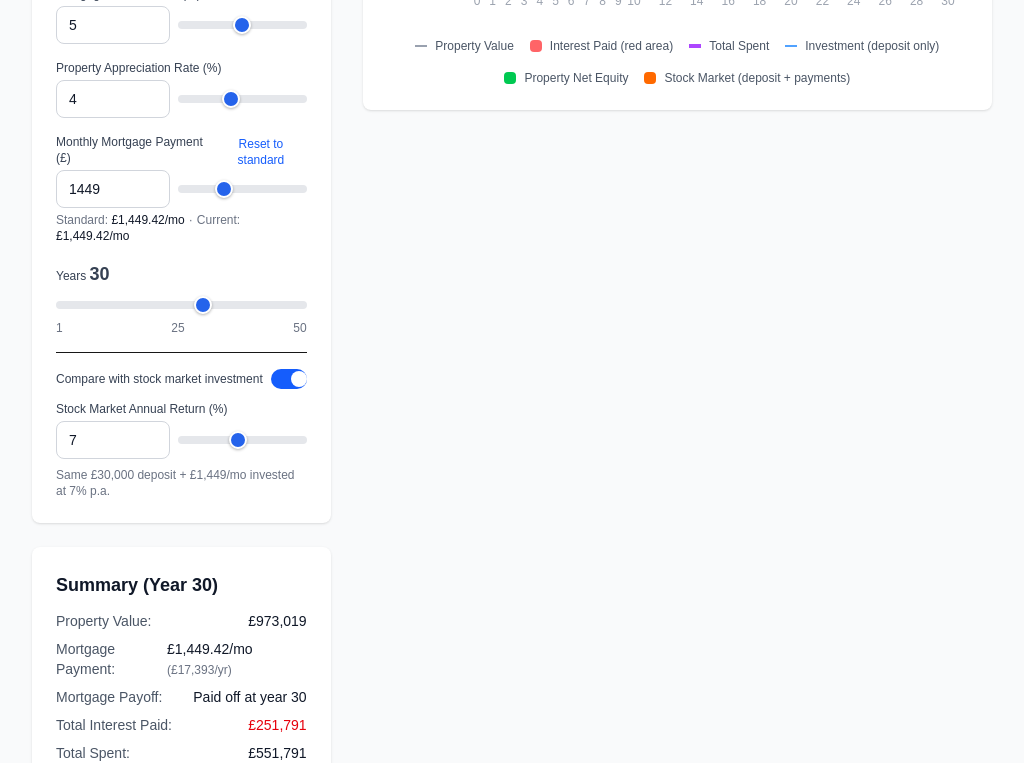
MortgageComparisonCalculator component › toggles stock market comparison on/off
(page scrolled)
Expected: the text "Stock Market Annual Return (%)" is shown, x1=56 y1=402 x2=227 y2=416
Toggle off
Step 1. Click the switch → [289, 379], box x1=271 y1=369 x2=307 y2=389
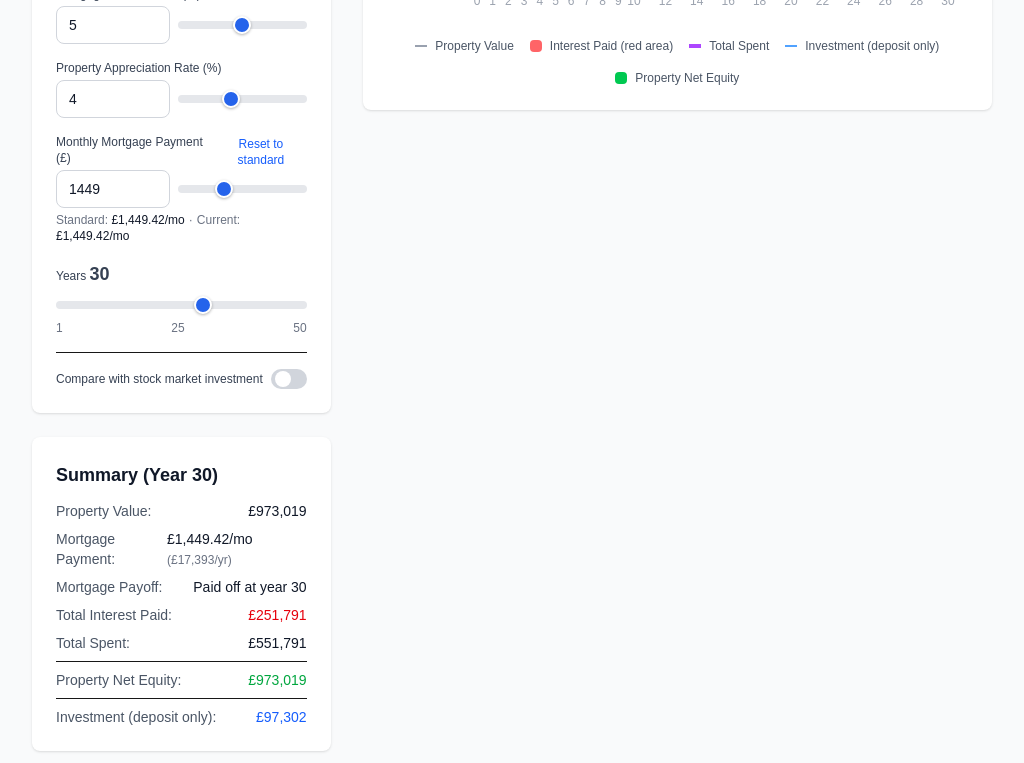
Now the text "Stock Market Annual Return (%)" is gone
